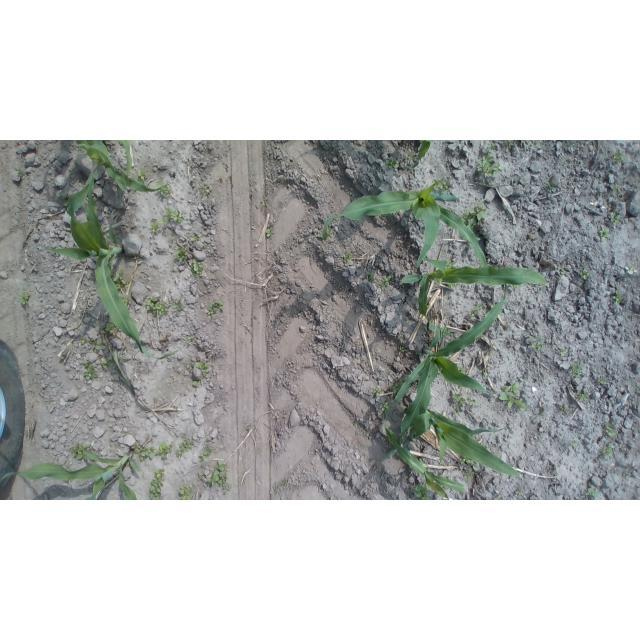Maize: (42, 164, 183, 363), (394, 296, 509, 435), (322, 179, 492, 273), (383, 403, 525, 500), (405, 256, 549, 320), (1, 447, 146, 499), (60, 141, 169, 193)
Weeds: (200, 459, 232, 495), (497, 381, 528, 412), (144, 295, 172, 322), (462, 203, 490, 229), (475, 156, 501, 182), (149, 467, 167, 500), (448, 391, 476, 412), (80, 359, 101, 384), (174, 438, 194, 463), (68, 444, 92, 461), (193, 360, 216, 377), (133, 444, 156, 460), (164, 206, 184, 224), (272, 479, 293, 496), (584, 485, 609, 499), (433, 176, 451, 195), (171, 245, 189, 264), (18, 290, 35, 310), (169, 298, 187, 316), (178, 481, 195, 500), (412, 484, 431, 501), (567, 359, 583, 378), (189, 257, 203, 278), (156, 441, 171, 460), (207, 299, 226, 314), (377, 274, 393, 291), (469, 306, 485, 323), (574, 389, 590, 406), (111, 268, 128, 284), (531, 335, 546, 353), (601, 421, 619, 436), (149, 216, 163, 235), (623, 263, 639, 279), (98, 360, 119, 372), (383, 156, 399, 171), (462, 471, 478, 486), (394, 343, 409, 358), (377, 401, 392, 416), (606, 209, 622, 223), (341, 251, 356, 265), (598, 445, 612, 460), (199, 445, 210, 464), (101, 324, 117, 337), (203, 184, 216, 200), (580, 266, 592, 283), (611, 292, 622, 309), (160, 184, 174, 197), (597, 374, 611, 387), (556, 345, 568, 360), (597, 226, 609, 241), (555, 266, 568, 279), (613, 152, 626, 165), (556, 401, 568, 415), (92, 339, 102, 354), (442, 326, 452, 341), (365, 273, 376, 286), (516, 488, 529, 499), (186, 333, 197, 346), (265, 228, 276, 240), (535, 405, 546, 416), (373, 386, 383, 398), (78, 335, 88, 346), (570, 437, 579, 449), (404, 152, 414, 162), (192, 378, 203, 387), (187, 235, 199, 243), (260, 198, 267, 211)
